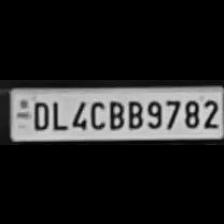2: (199, 95, 219, 129)
4: (67, 96, 87, 130)
7: (162, 95, 180, 129)
8: (182, 96, 200, 130)
9: (144, 96, 162, 130)
B: (124, 96, 144, 130), (107, 96, 125, 130)
C: (87, 97, 105, 129)
D: (28, 97, 50, 129)
L: (50, 96, 66, 130)
